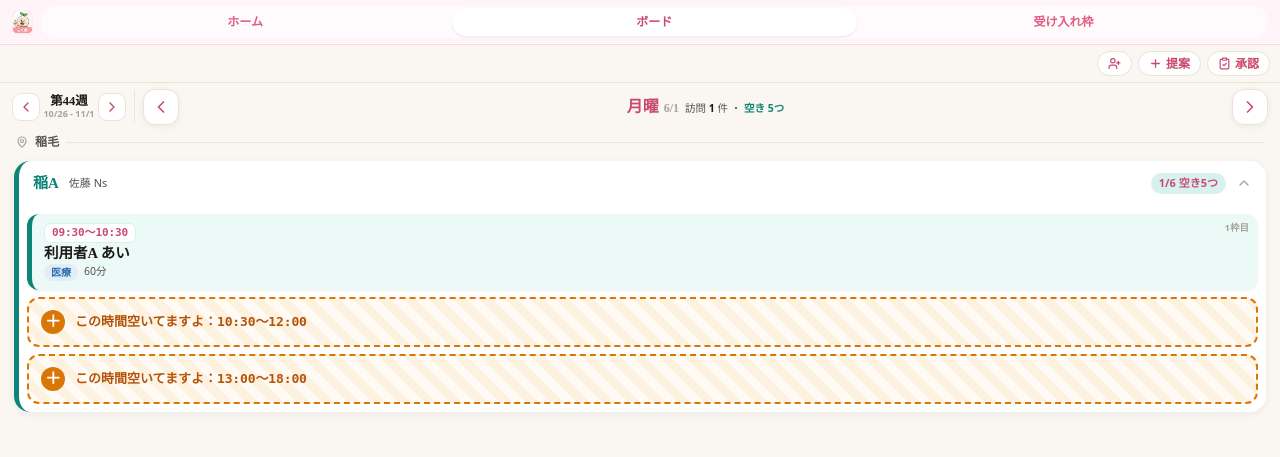
Scenario: /m ヘッダ 患者ボタン (Phase G-87) › 「患者」ボタン押下で患者管理シート (新規登録 + 検索) が開く
Click the button named "患者の登録・編集" at (1114, 64), box [1097,51,1132,76]
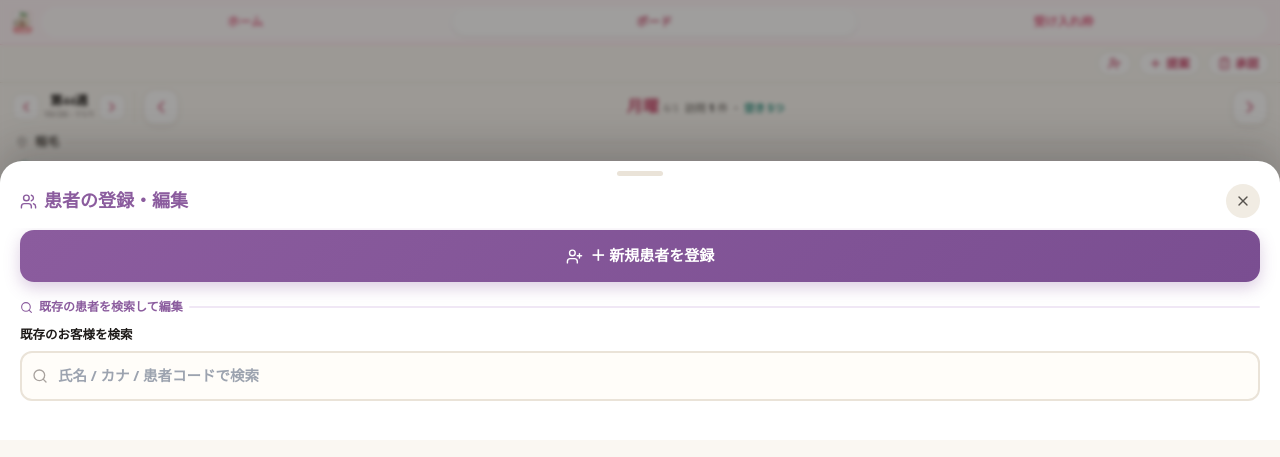
Now the button "＋ 新規患者を登録" is shown, box [20,230,1260,282]
Now the field named "既存のお客様を検索" is shown, box [20,351,1260,401]
